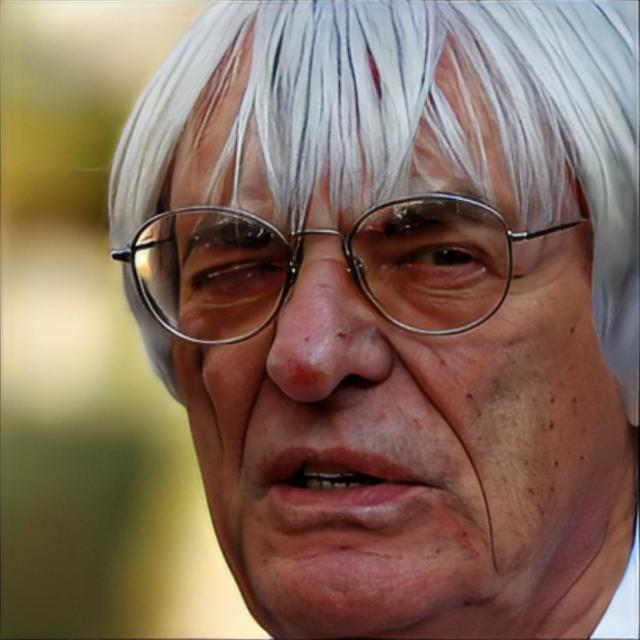disgust: (168, 4, 627, 640)
